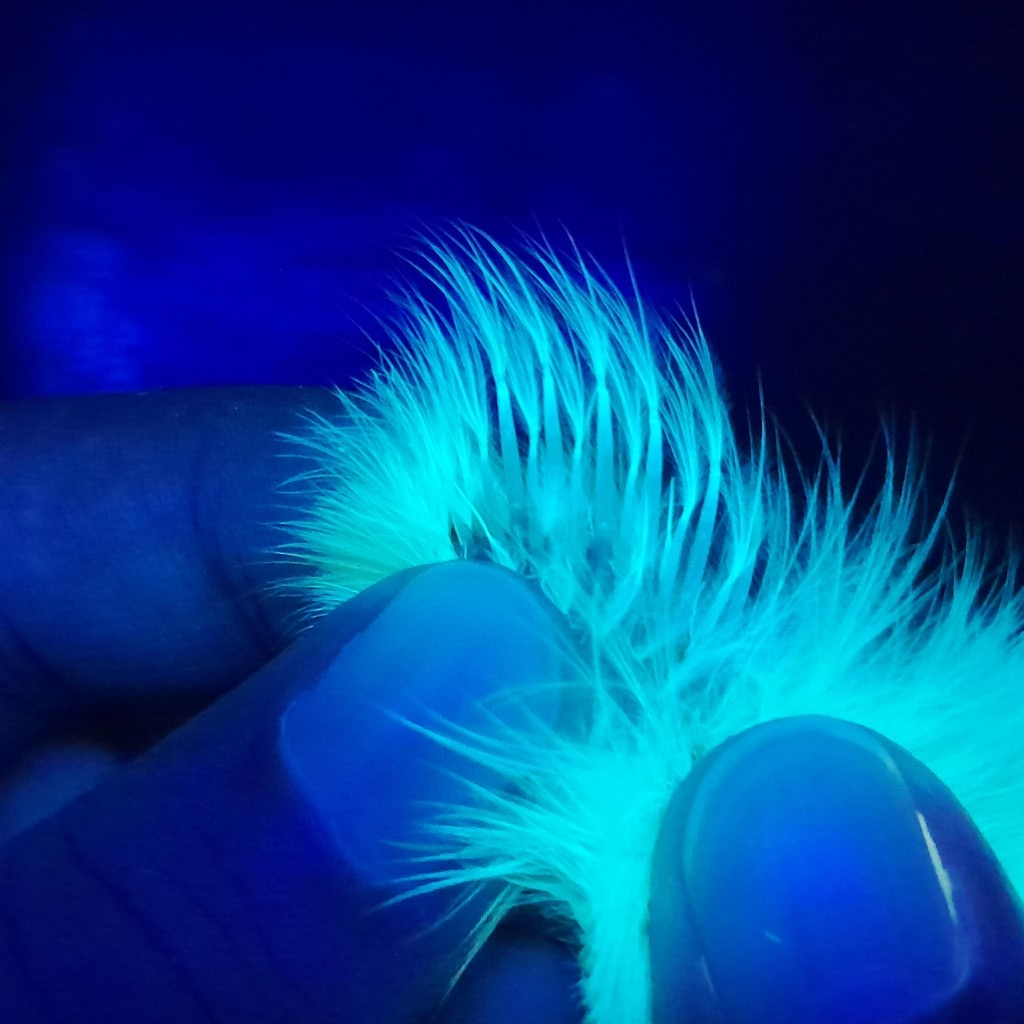female: (414, 349, 781, 740)
